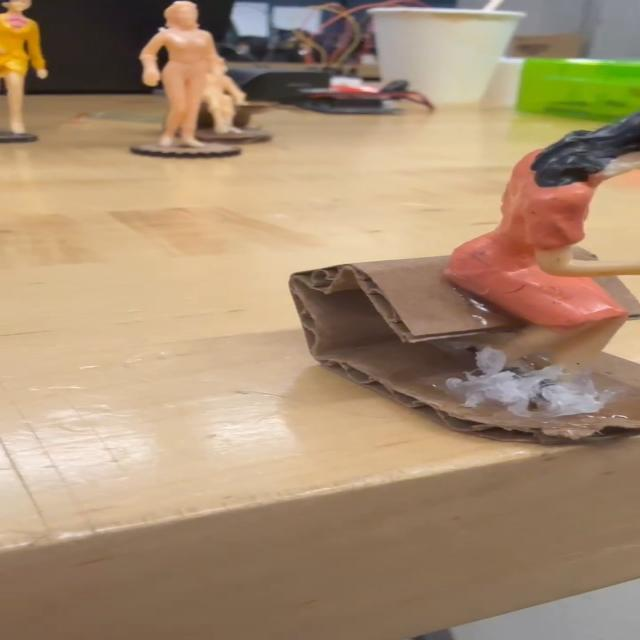Authorized: (438, 104, 640, 450)
